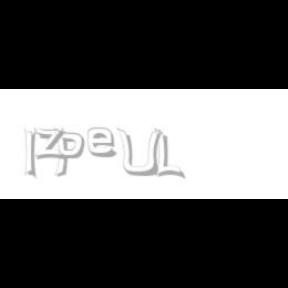L: (154, 128, 182, 180)
P: (53, 128, 85, 178)
U: (116, 128, 161, 178)
e: (88, 128, 120, 158)
l: (24, 128, 40, 180)
z: (33, 128, 69, 160)
